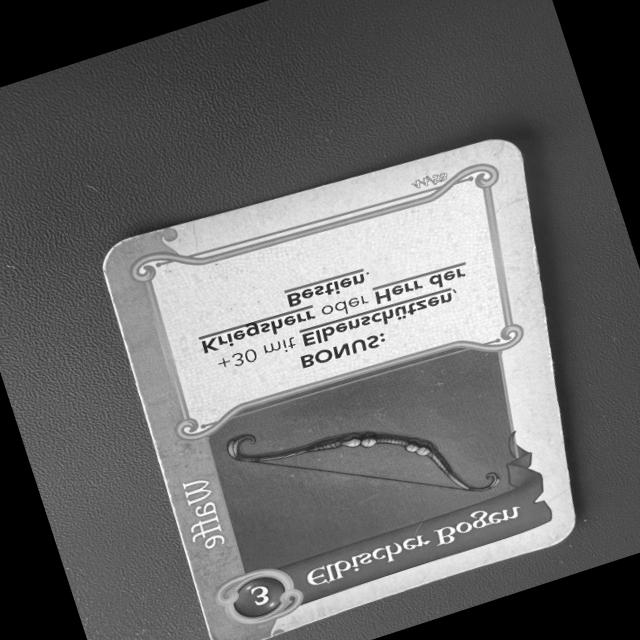Elven Longbow: (90, 131, 582, 640)
